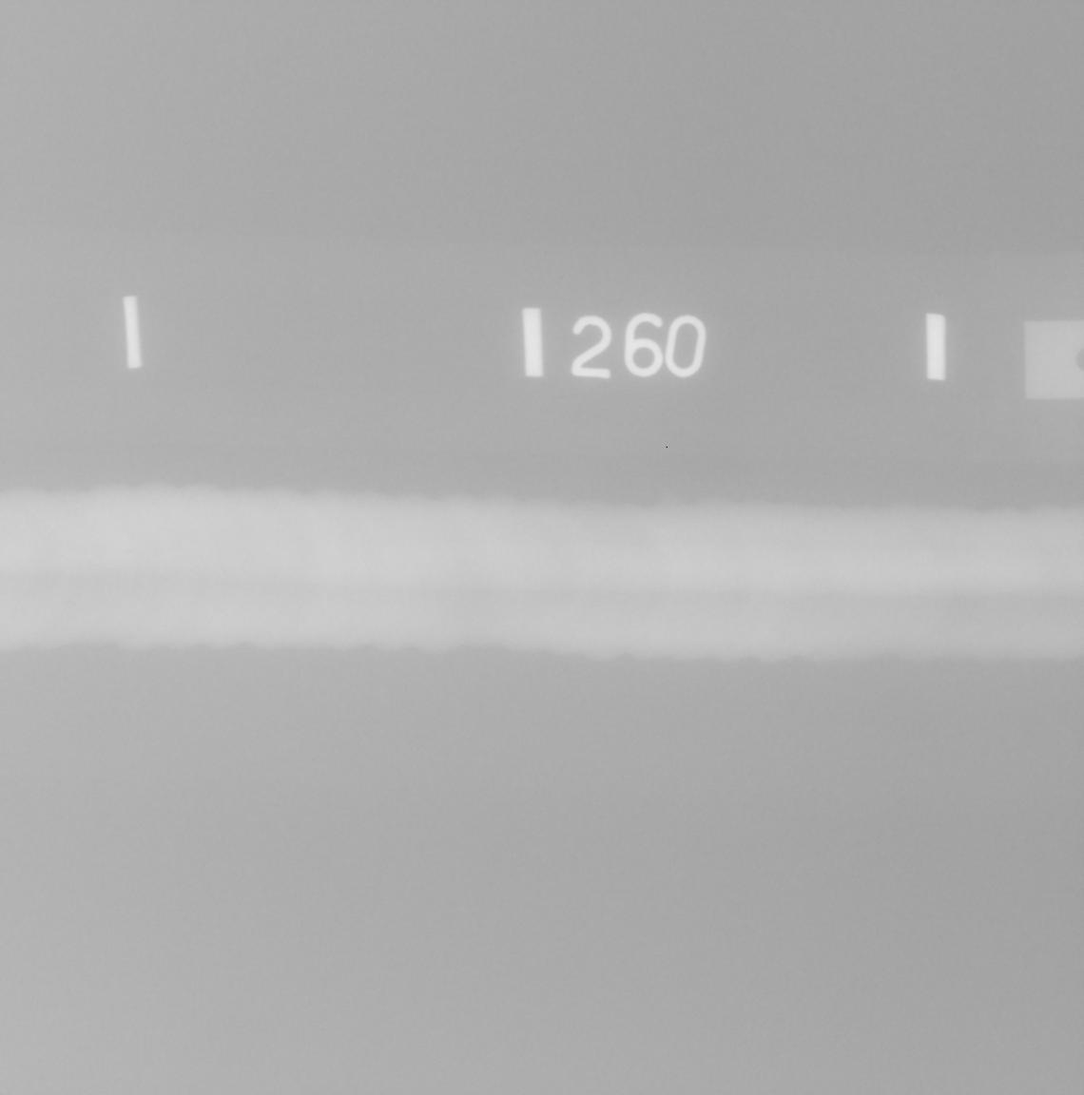Pore/Porosity: (63, 600, 71, 604)
